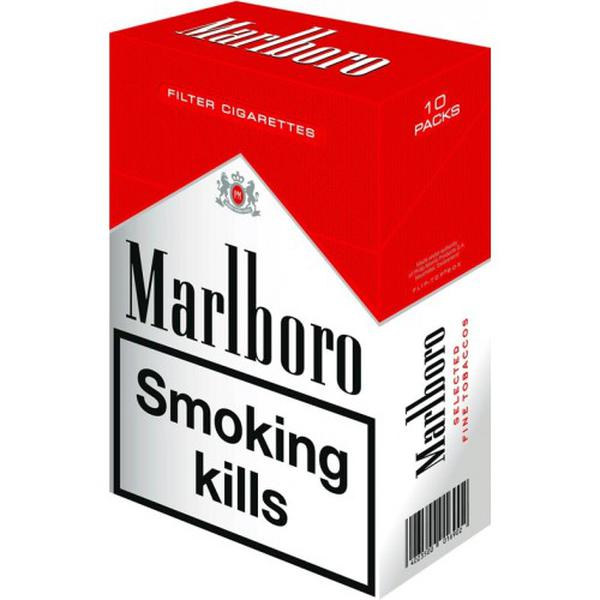marlboro_red: (114, 42, 373, 504)
